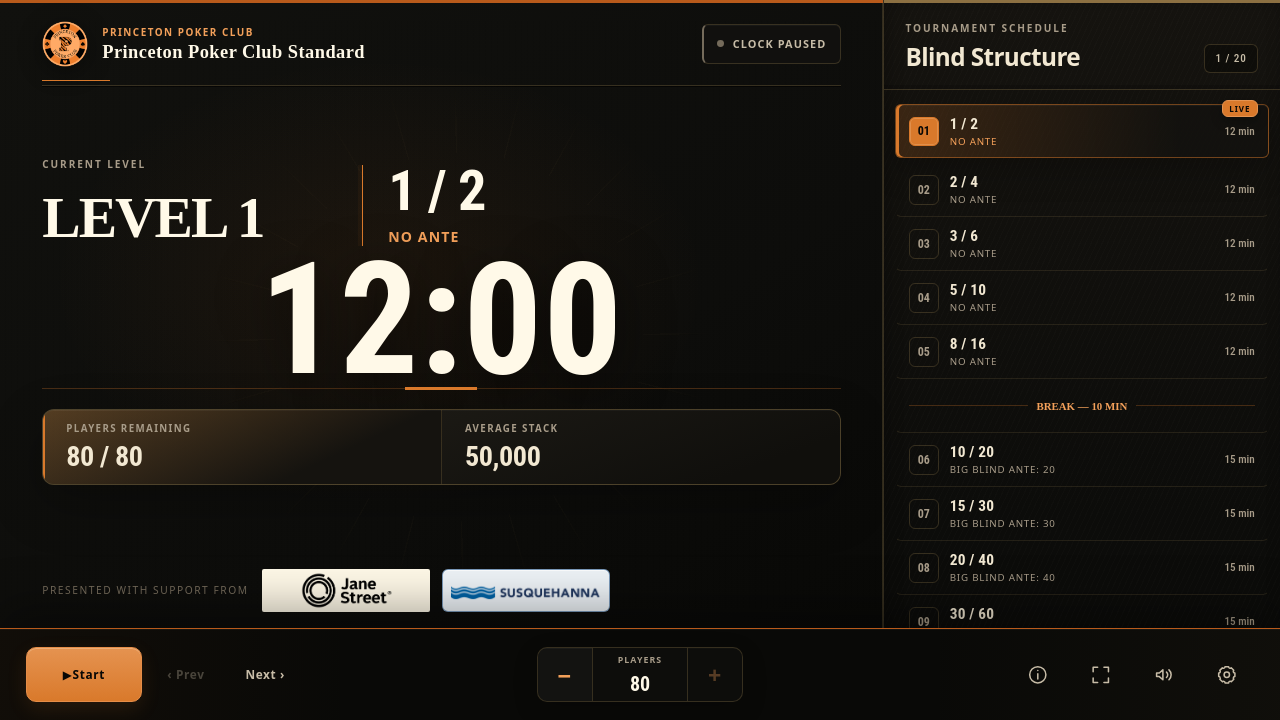
InfoOverlay › keeps the fixed projector layout when only hidden chip lines exceed the raw editor budget
What coordinates should you click on to do the following:
click the button named "Open tournament information"
I would click on:
 (1038, 674)
Its box is [1010,647,1065,702].
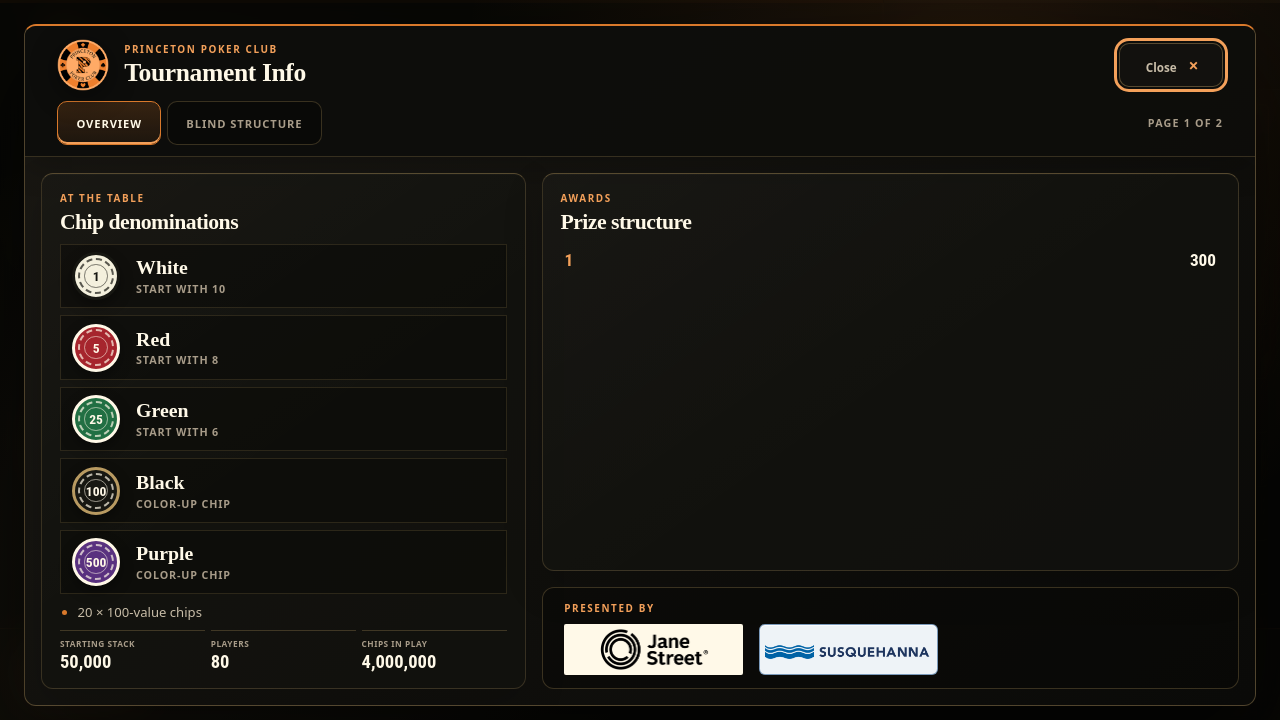
Expected: the element "Chip denominations" is shown, [41,173,526,689]
Expected: the element named "Start with 10 white 1-value chips" is shown, [60,244,507,308]
Expected: the list item "20 × 100-value chips" is shown, [78,603,202,621]
